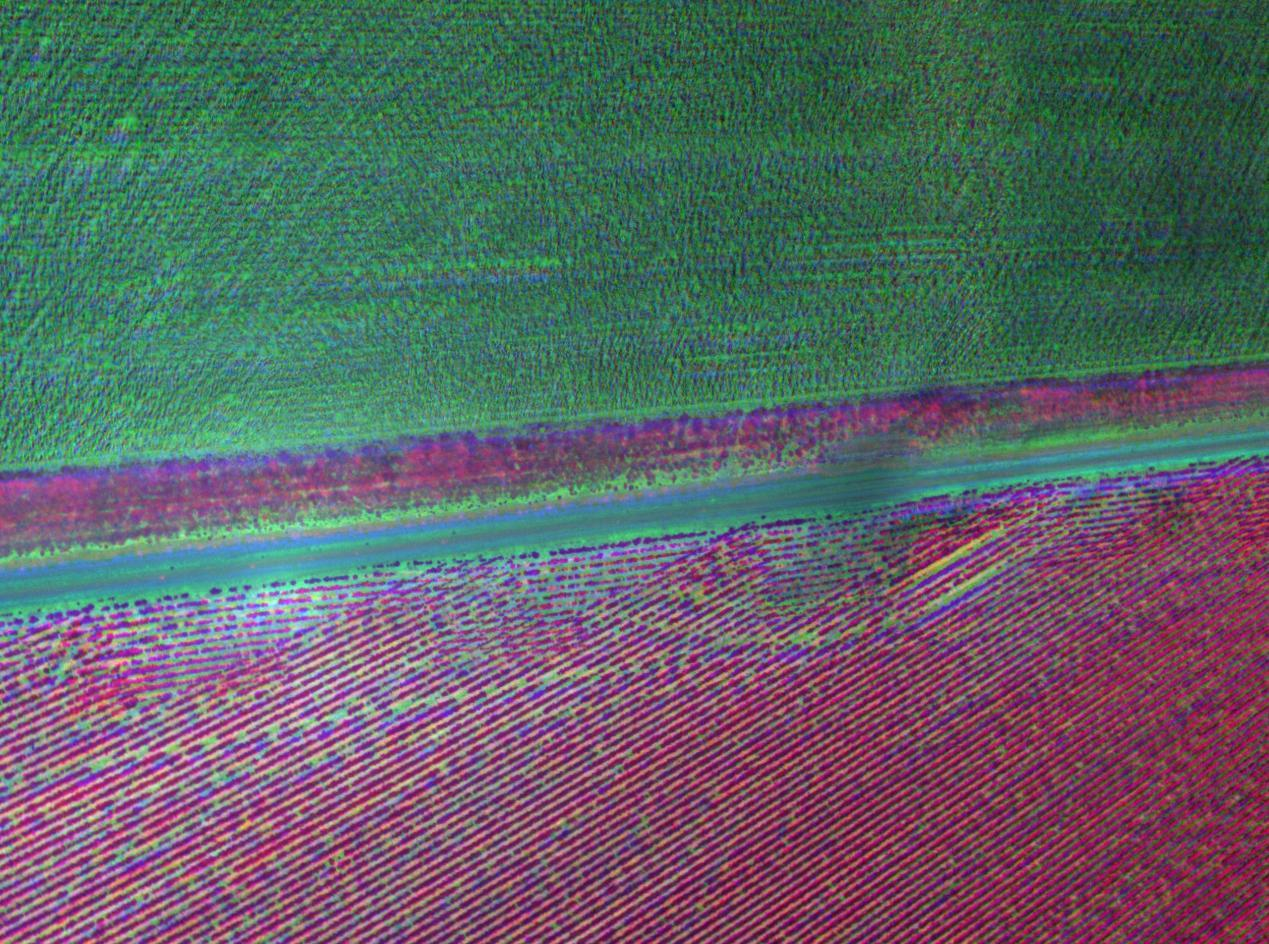dc: (429, 698, 435, 705), (96, 764, 101, 769), (991, 570, 995, 574), (804, 636, 808, 640), (238, 733, 242, 737), (889, 620, 892, 624), (1102, 502, 1105, 505), (999, 532, 1002, 535)
